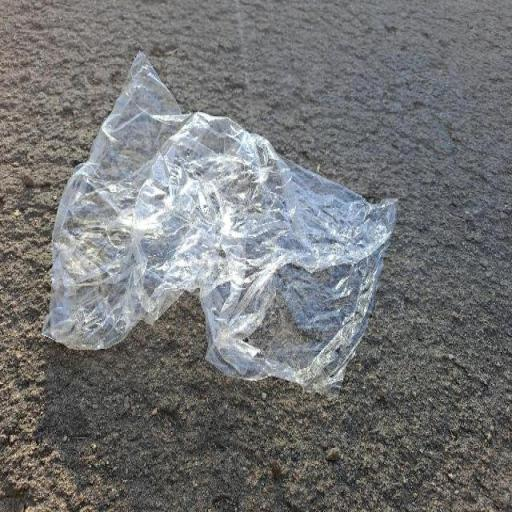plastic-bag: (40, 50, 401, 400)
